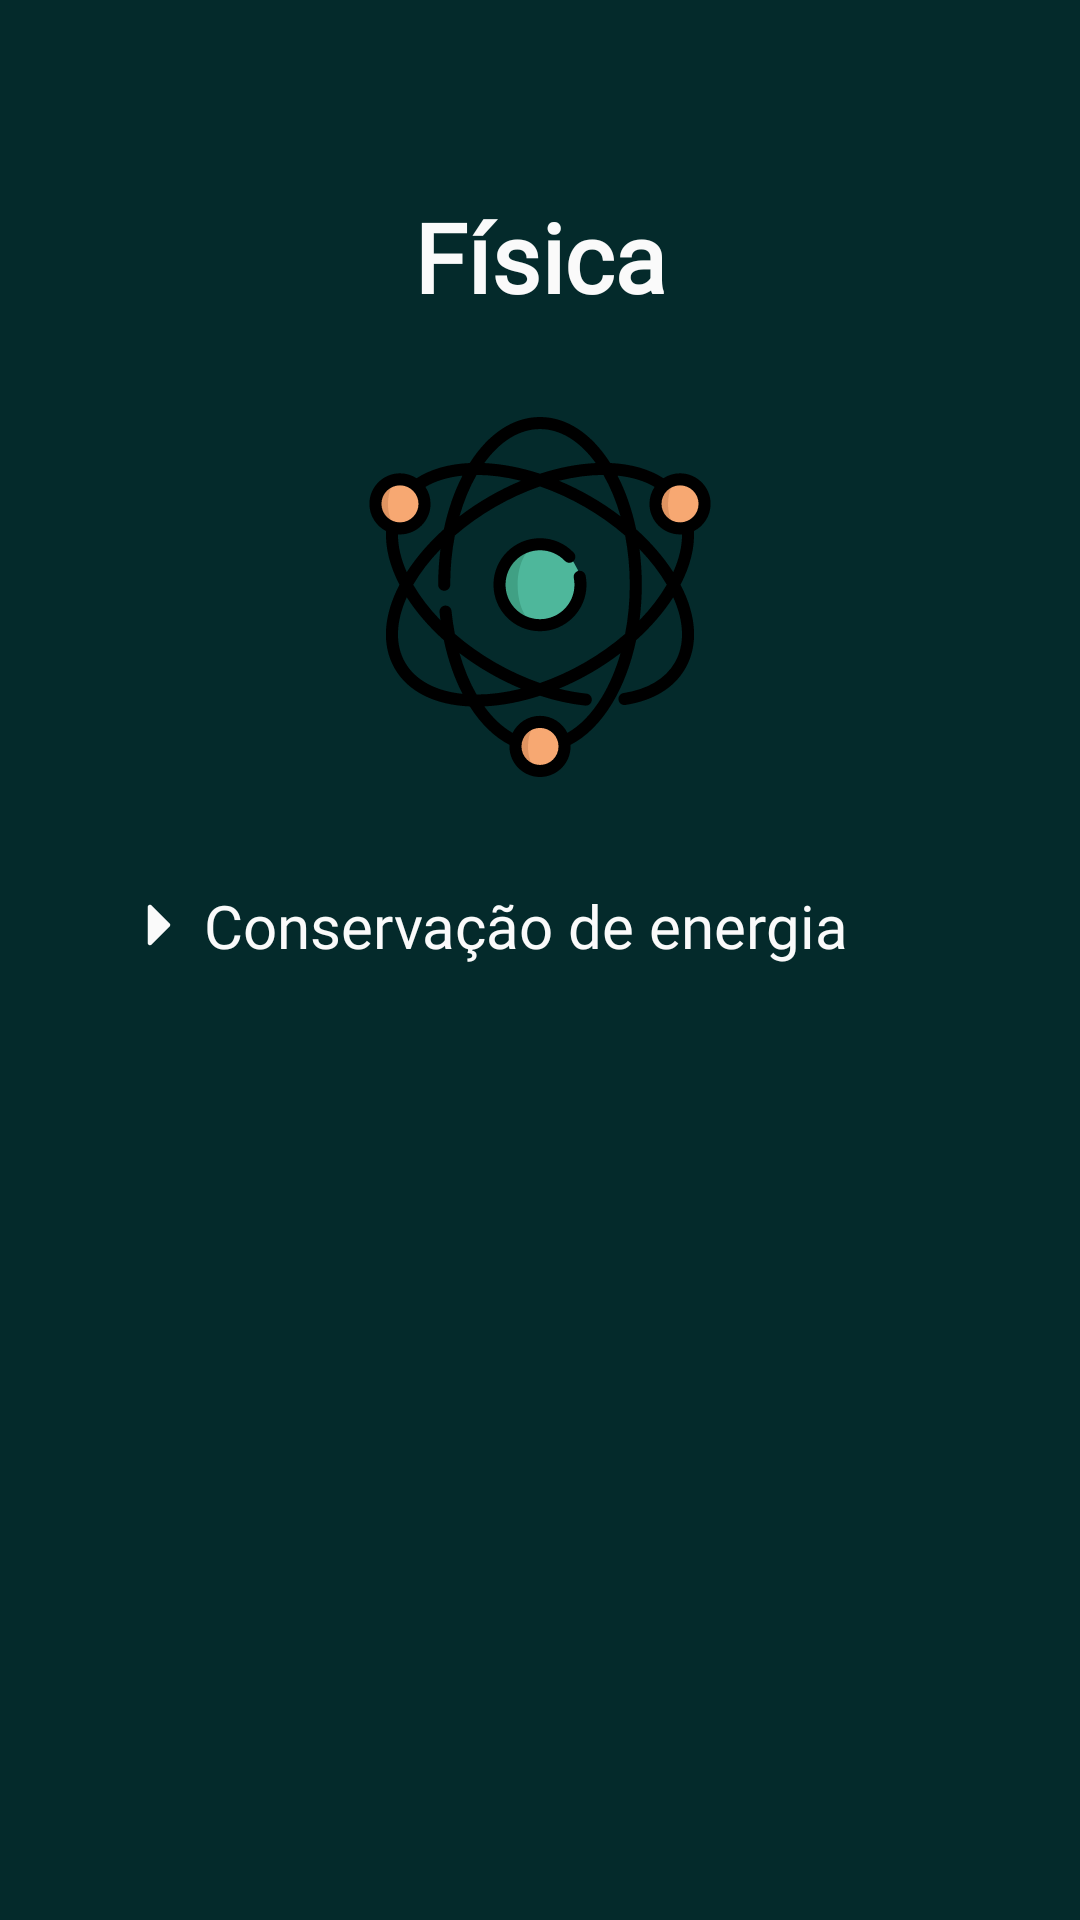

Icons on this 1080 x 1920 Android screen, each with its box as (x1, y1, x2, y2):
arrow right: (147, 904, 171, 946)
physics: (370, 417, 710, 777)
